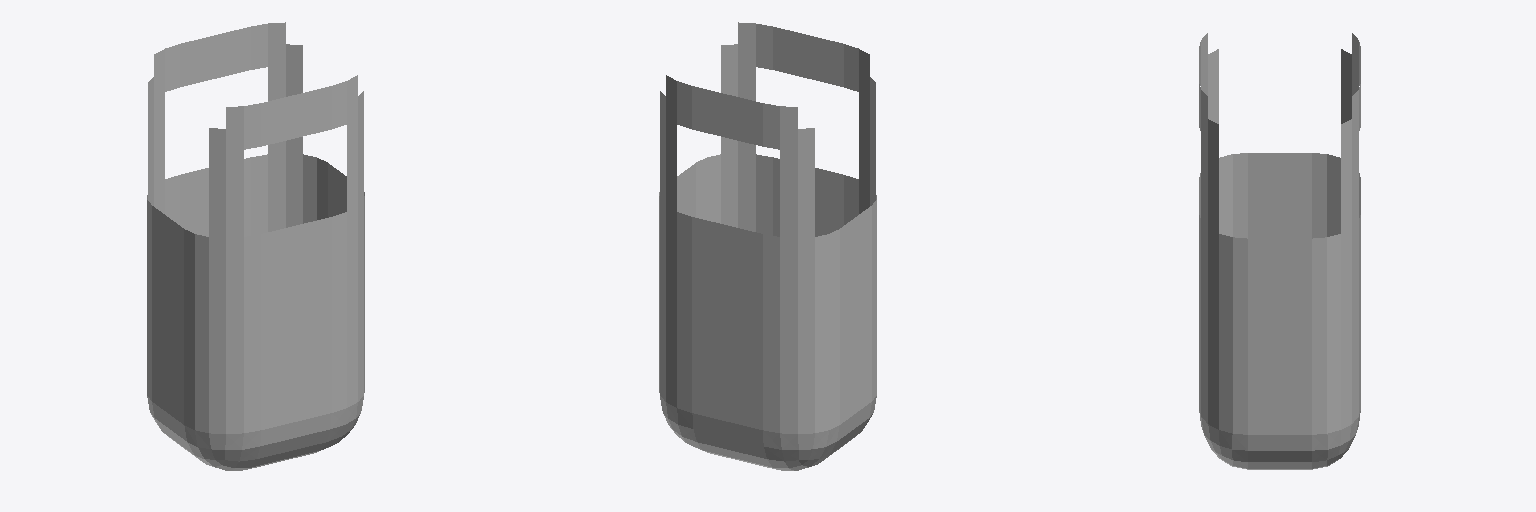
File: bag2_17.obj
3 renders of one model, left to right at view 1: azimuth 30°, elevation 25°; view 2: azimuth 150°, elevation 25°; view 3: azimuth 270°, elevation 25°, orthographic.
Visible parts, largest first — view 1: Cube-0-1.003_Cube.111; view 2: Cube-0-1.003_Cube.111; view 3: Cube-0-1.003_Cube.111.
Part boxes in pixels (left/top/right/bottom): Cube-0-1.003_Cube.111: left=147, top=22, right=364, bottom=470; Cube-0-1.003_Cube.111: left=659, top=22, right=876, bottom=470; Cube-0-1.003_Cube.111: left=1199, top=33, right=1360, bottom=469.
Size of the model in its own units: 2 by 4.16 by 1.6.